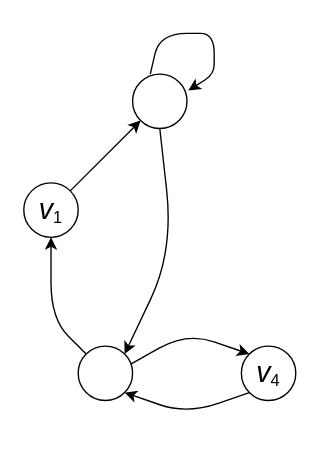
Some shapes in this 320 by 449 pixel diagram are drawn without their labels. The box of each missing label's shape, as (x1, y1, x2, y2) in pixels:
v 2: (131, 73, 187, 129)
v 3: (77, 345, 133, 401)
